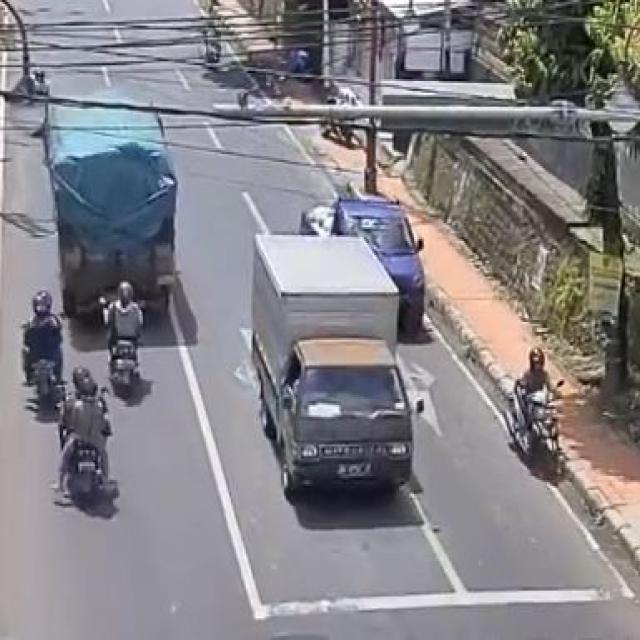car: (259, 237, 418, 507), (302, 198, 428, 329)
motorbike: (55, 367, 133, 532), (495, 340, 577, 489), (19, 283, 68, 425), (102, 286, 142, 395), (105, 273, 108, 275), (283, 184, 284, 188)
truck: (42, 107, 190, 270)
